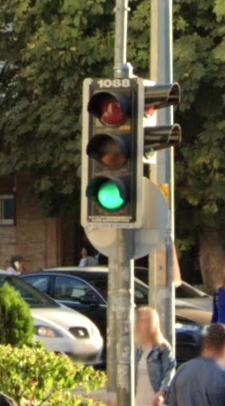greenlight: (84, 76, 141, 226)
